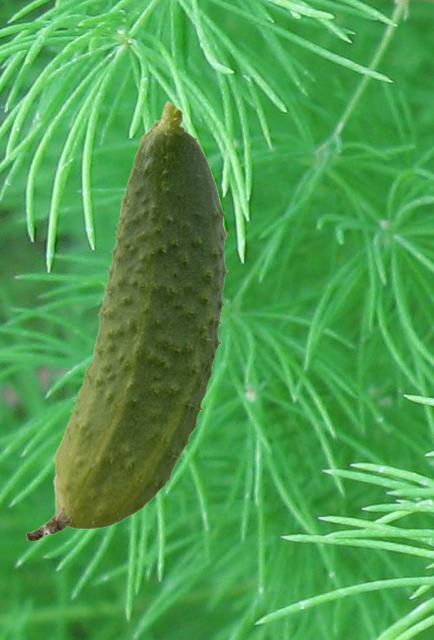cucumber: (26, 101, 228, 540)
